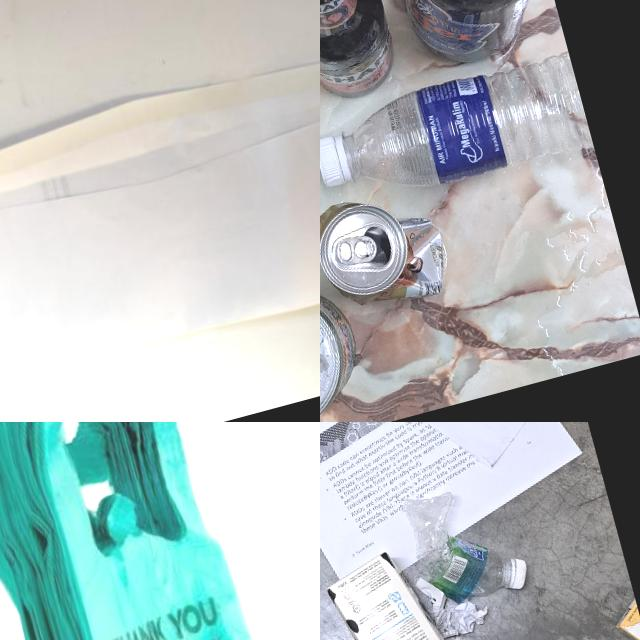aba de lata: (332, 230, 380, 268)
caixinha: (321, 534, 504, 640), (614, 594, 640, 640)
garrafa de vidro: (363, 0, 564, 77), (320, 0, 405, 113)
garrafa plástica: (331, 48, 593, 208), (397, 474, 534, 611)
lata: (320, 186, 456, 321), (320, 276, 373, 422)
papel: (0, 31, 320, 396), (320, 422, 610, 624), (408, 561, 493, 640)
sacola plástica: (0, 422, 320, 640), (221, 422, 320, 640)
tampa plástica: (320, 134, 346, 188), (502, 553, 534, 587)
